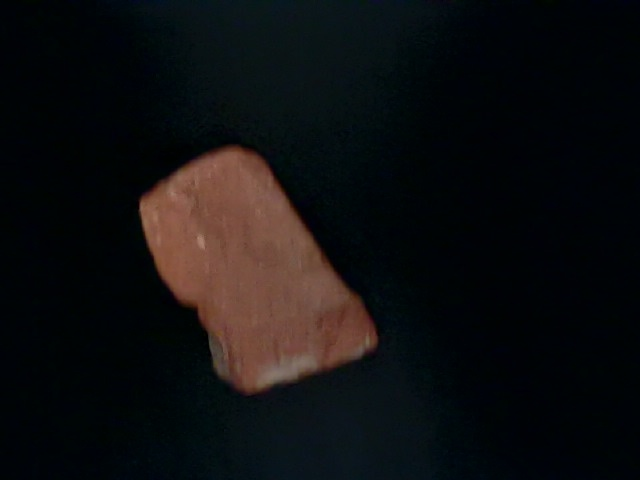KHSLJ: (134, 49, 629, 461)
